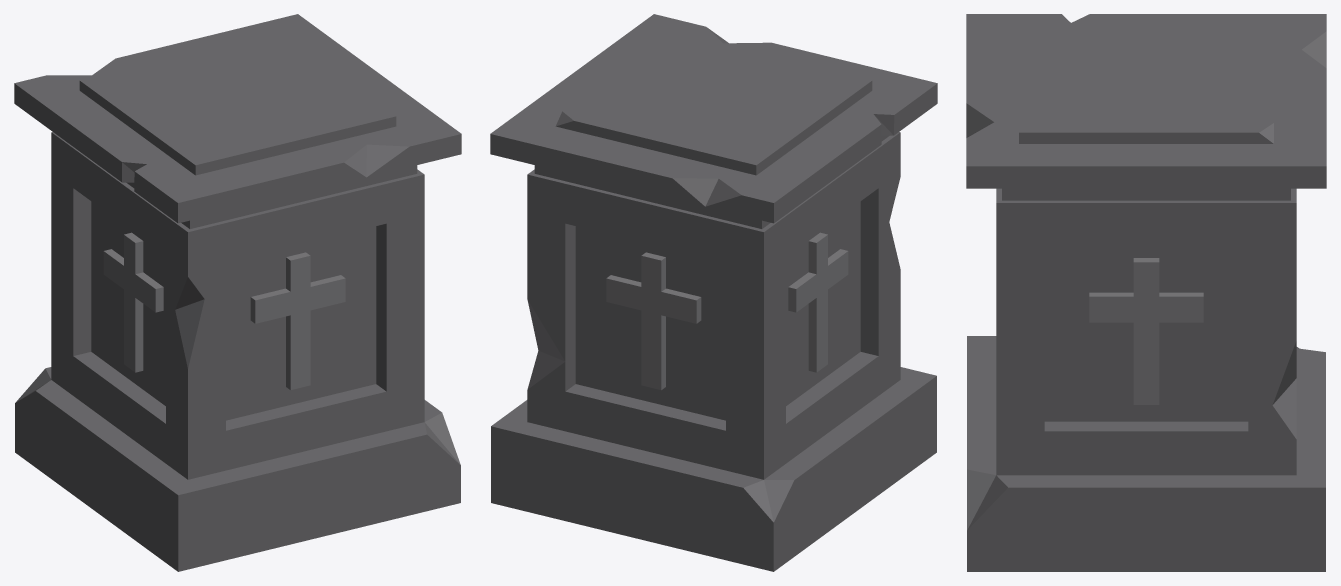
File: SM_Prop_Plinth_01.gltf
The picture shows the model from 3 angles, left to right: view 1: azimuth 30°, elevation 25°; view 2: azimuth 150°, elevation 25°; view 3: azimuth 270°, elevation 25°; orthographic projection. The views are drawn at different scales.
Parts seen in each view (by area): view 1: SM_Prop_Plinth_01; view 2: SM_Prop_Plinth_01; view 3: SM_Prop_Plinth_01.
Part boxes in pixels (x1=…): SM_Prop_Plinth_01: x1=14, y1=14, x2=461, y2=571; SM_Prop_Plinth_01: x1=490, y1=14, x2=937, y2=571; SM_Prop_Plinth_01: x1=966, y1=14, x2=1326, y2=571.
Bounding box in the file's own units: 1.2 × 1.53 × 1.2.
Materials: 1 (1 with a texture image).
